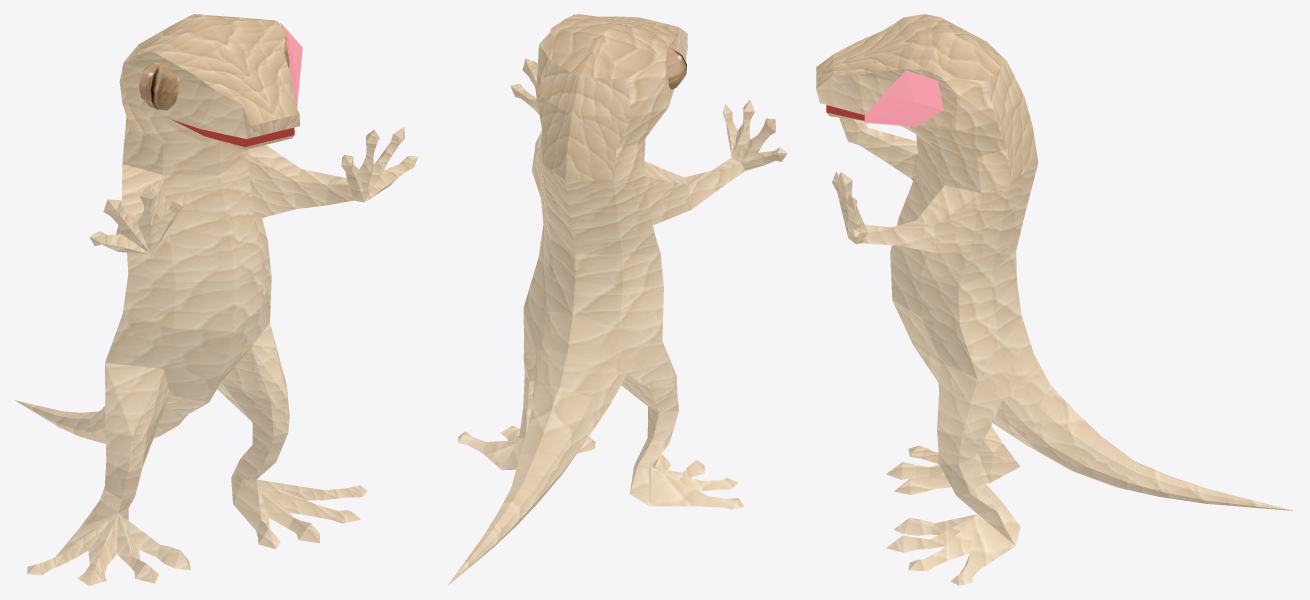
Rendered from nelumi.glb.
3 renders of one model, left to right at view 1: azimuth 30°, elevation 25°; view 2: azimuth 150°, elevation 25°; view 3: azimuth 270°, elevation 25°, orthographic. The views are drawn at different scales.
Parts seen in each view (by area): view 1: Cube, Cube.001; view 2: Cube; view 3: Cube, Cube.001.
Boxes of the visible parts, <box> form: Cube: <box>15,14,418,585</box>; Cube.001: <box>280,23,302,108</box>; Cube: <box>447,14,787,585</box>; Cube: <box>816,14,1295,585</box>; Cube.001: <box>864,70,943,126</box>.
Bounding box in the file's own units: 6.33 × 9.26 × 8.41.
Materials: 4 (2 with a texture image).
